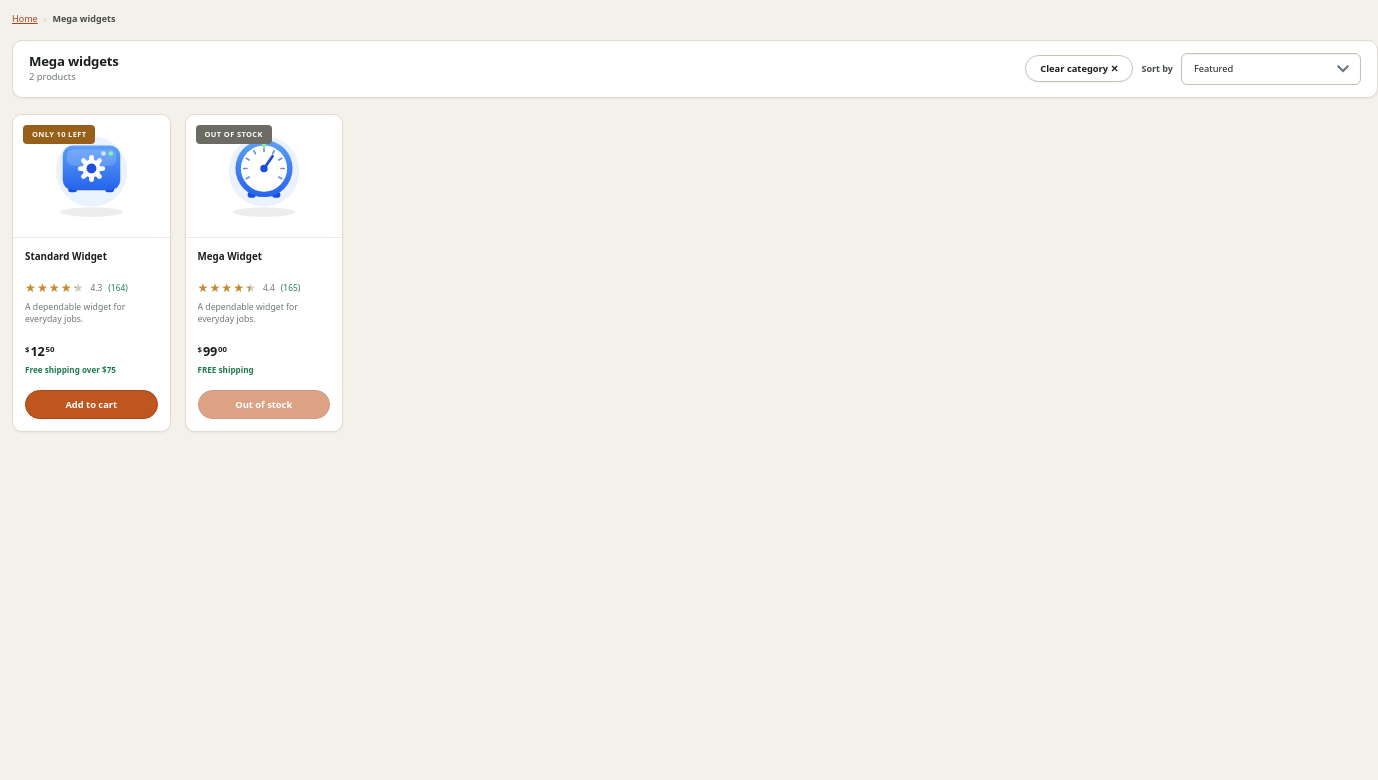
it: CatalogPage › clears a category from the toolbar
Expected: the heading "Mega widgets" is shown, [29,53,119,70]
Click the button "Clear category ✕". click: (1079, 68)
box: [1025,55,1134,82]
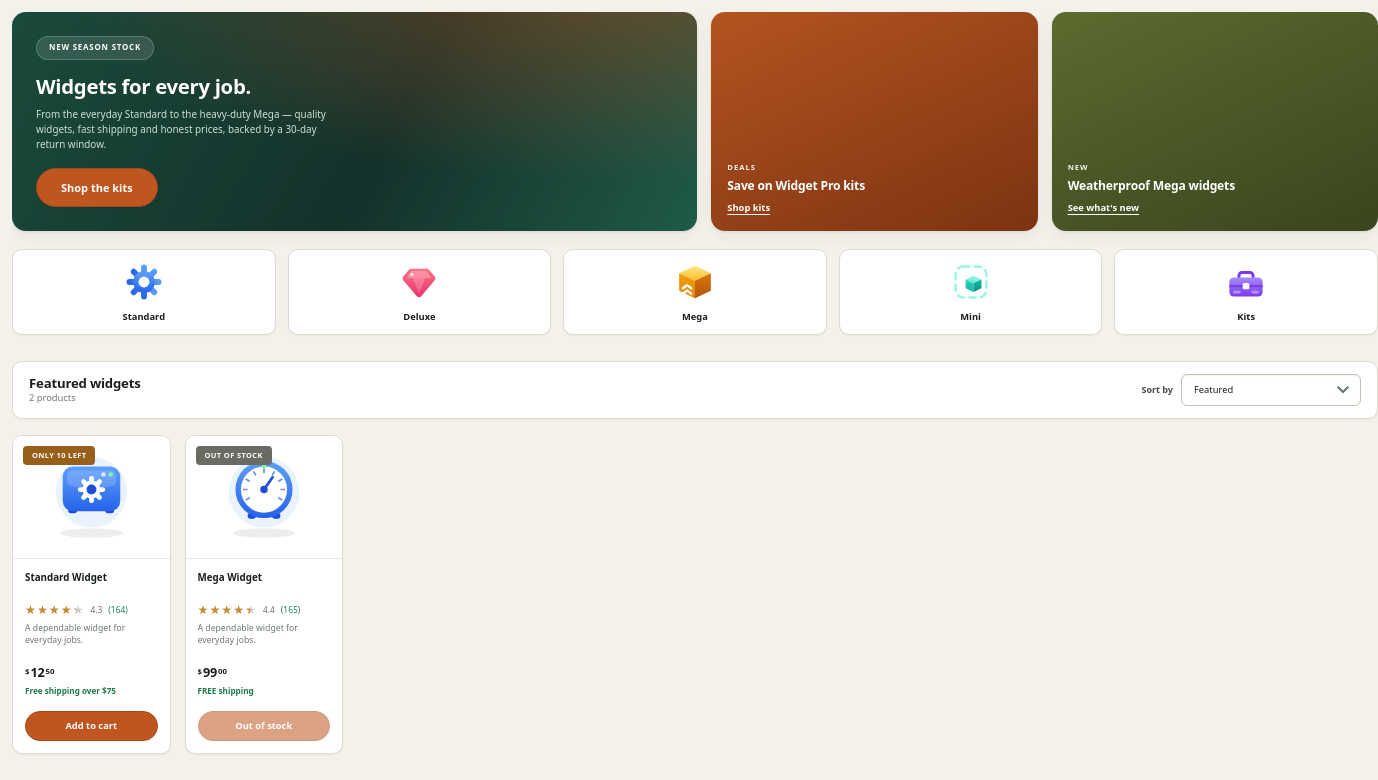
Expected: the link "Standard Widget" is shown, [25,571,107,584]
Result: the heading "Featured widgets" is shown at [29,375,141,391]
